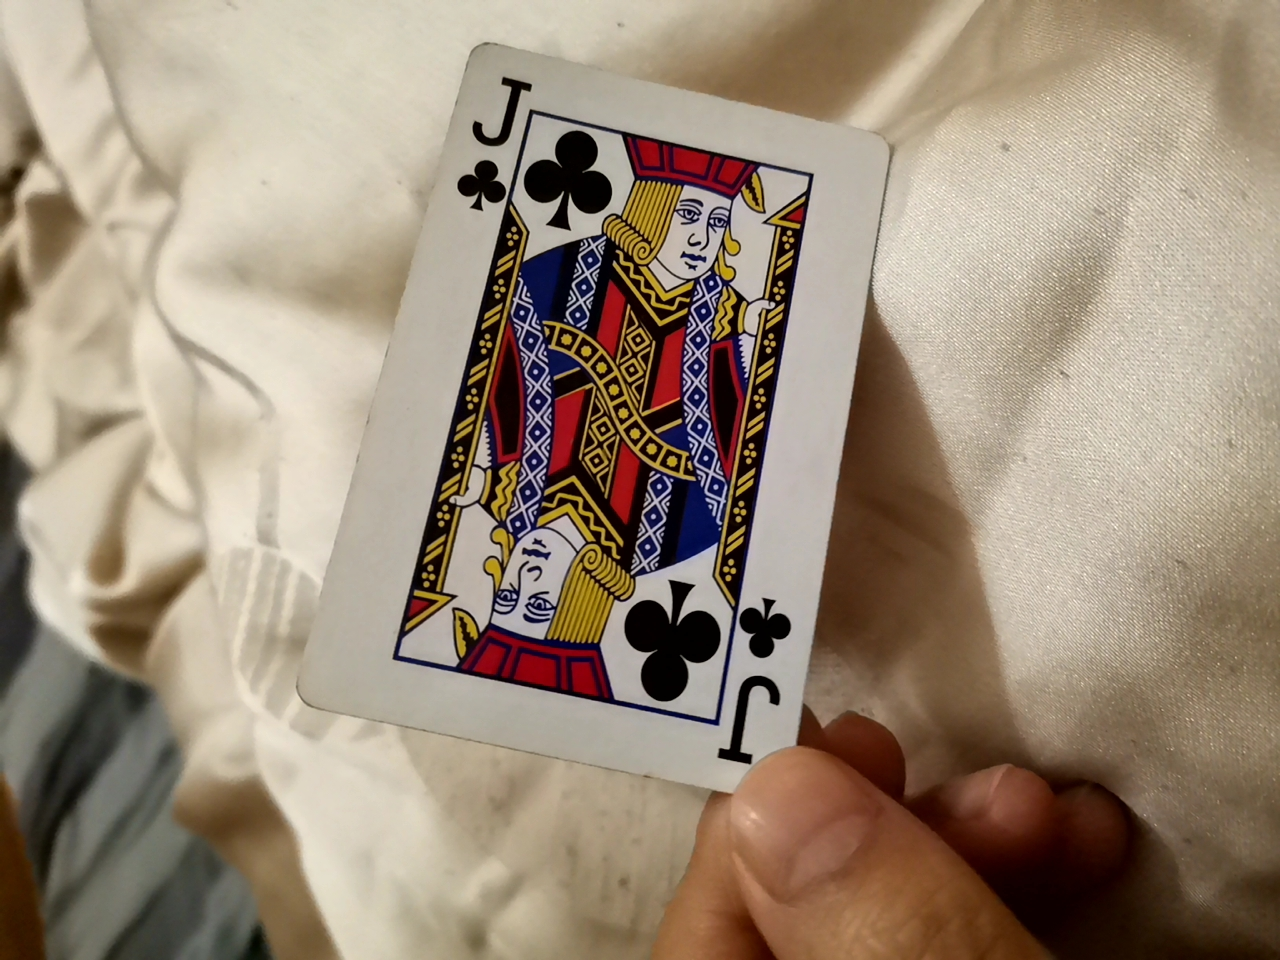mh j: (366, 57, 886, 812)
